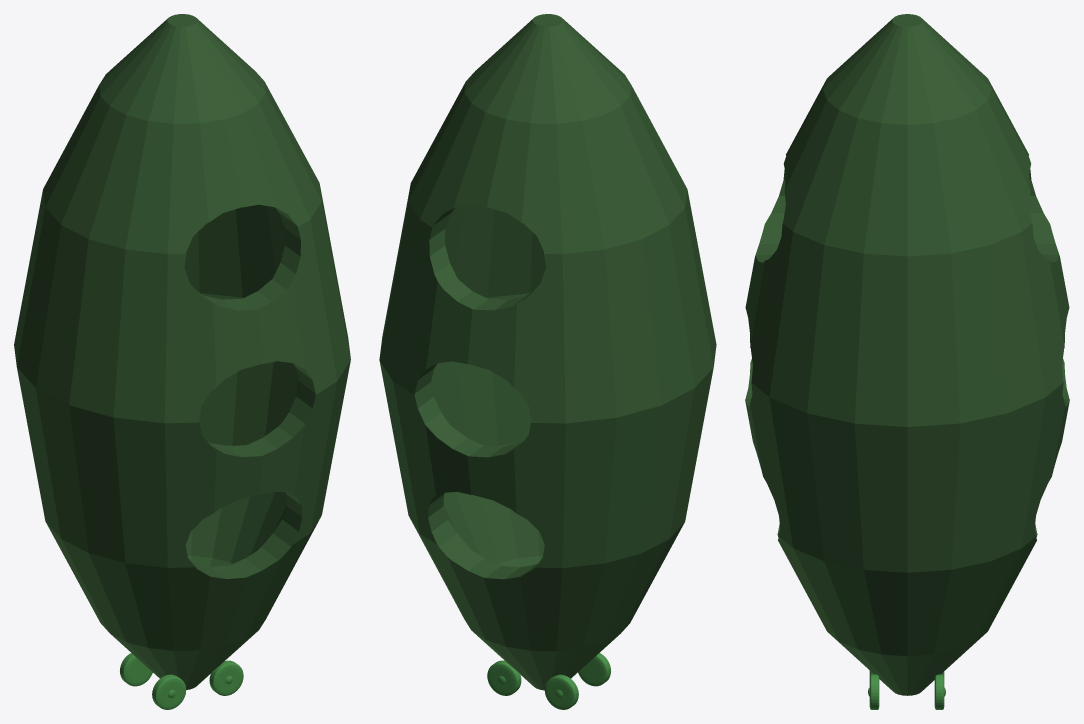
Rendered from wagons_basse.glb.
3 views of the same model, side by side, from view 1: azimuth 30°, elevation 25°; view 2: azimuth 150°, elevation 25°; view 3: azimuth 270°, elevation 25° (orthographic).
Parts seen in each view (by area): view 1: wagon_bass, roue.046, roue.047, roue.045; view 2: wagon_bass, roue.045, roue.044, roue.046; view 3: wagon_bass.
Part boxes in pixels (left/top/right/bottom): wagon_bass: left=14, top=14, right=350, bottom=689; roue.046: left=152, top=674, right=186, bottom=709; roue.047: left=209, top=660, right=243, bottom=695; roue.045: left=120, top=653, right=152, bottom=686; wagon_bass: left=379, top=14, right=716, bottom=690; roue.045: left=544, top=674, right=578, bottom=709; roue.044: left=487, top=660, right=521, bottom=695; roue.046: left=578, top=653, right=610, bottom=686; wagon_bass: left=745, top=14, right=1069, bottom=695.
Size of the model in its own units: 31.95 by 69.58 by 30.39.
